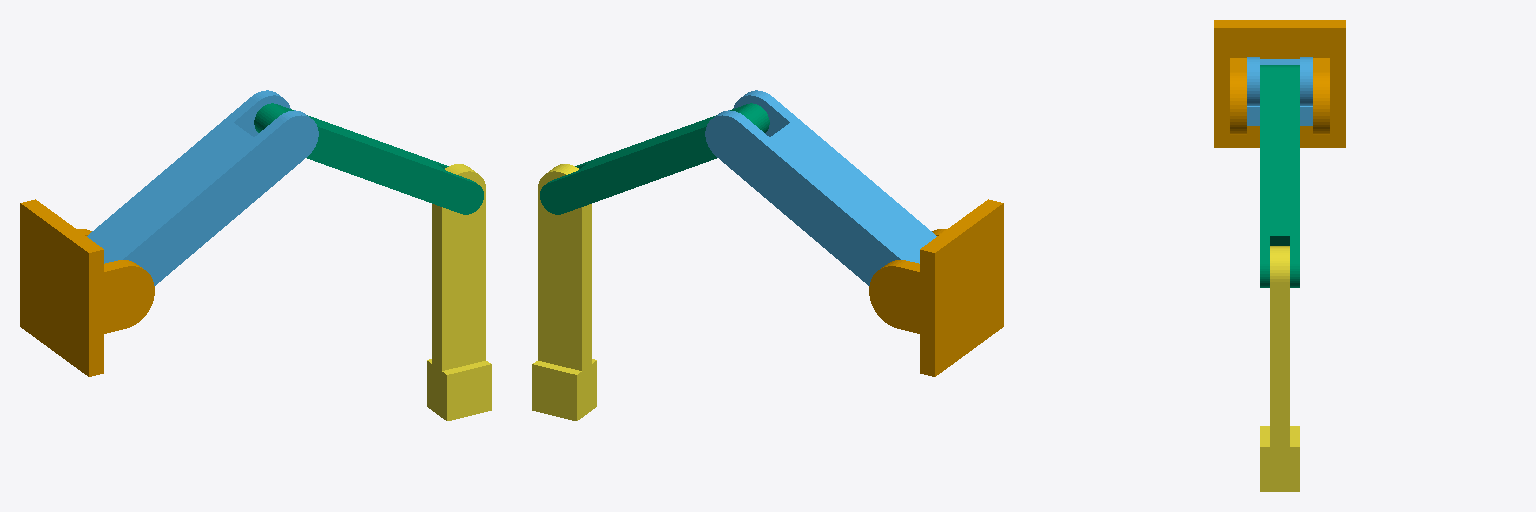
The robot description file, URDF, robot "spider_feet_l":
<?xml version="1.0" ?>
<robot name="spider_feet_l">

<link name="spider_feet_l_base_link">
  <inertial>
    <origin xyz="0.0006389422779993786 -3.5440479720288525e-19 9.279166287235361e-08" rpy="0 0 0"/>
    <mass value="9.60595016905366e-05"/>
    <inertia ixx="0.0" iyy="0.0" izz="0.0" ixy="-0.0" iyz="-0.0" ixz="-0.0"/>
  </inertial>
  <visual>
    <origin xyz="0 0 0" rpy="0 0 0"/>
    <geometry>
      <mesh filename="meshes/spider_feet_l_base_link.stl" scale="0.001 0.001 0.001"/>
    </geometry>
    <material name="silver"/>
  </visual>
  <collision>
    <origin xyz="0 0 0" rpy="0 0 0"/>
    <geometry>
      <mesh filename="meshes/spider_feet_l_base_link.stl" scale="0.001 0.001 0.001"/>
    </geometry>
  </collision>
</link>

<link name="spider_feet_l_farm_1">
  <inertial>
    <origin xyz="0.0027497367858007066 0.0 0.0015875615341452867" rpy="0 0 0"/>
    <mass value="0.00016960973489184238"/>
    <inertia ixx="0.0" iyy="0.0" izz="0.0" ixy="0.0" iyz="0.0" ixz="-0.0"/>
  </inertial>
  <visual>
    <origin xyz="-0.001517 -0.0 -0.0" rpy="0 0 0"/>
    <geometry>
      <mesh filename="meshes/spider_feet_l_farm_1.stl" scale="0.001 0.001 0.001"/>
    </geometry>
    <material name="silver"/>
  </visual>
  <collision>
    <origin xyz="-0.001517 -0.0 -0.0" rpy="0 0 0"/>
    <geometry>
      <mesh filename="meshes/spider_feet_l_farm_1.stl" scale="0.001 0.001 0.001"/>
    </geometry>
  </collision>
</link>

<link name="spider_feet_l_sarm_1">
  <inertial>
    <origin xyz="0.0028906645717420385 0.0 -0.0016695684877066313" rpy="0 0 0"/>
    <mass value="6.608259707145152e-05"/>
    <inertia ixx="0.0" iyy="0.0" izz="0.0" ixy="0.0" iyz="0.0" ixz="0.0"/>
  </inertial>
  <visual>
    <origin xyz="-0.00758 -0.0 -0.0035" rpy="0 0 0"/>
    <geometry>
      <mesh filename="meshes/spider_feet_l_sarm_1.stl" scale="0.001 0.001 0.001"/>
    </geometry>
    <material name="silver"/>
  </visual>
  <collision>
    <origin xyz="-0.00758 -0.0 -0.0035" rpy="0 0 0"/>
    <geometry>
      <mesh filename="meshes/spider_feet_l_sarm_1.stl" scale="0.001 0.001 0.001"/>
    </geometry>
  </collision>
</link>

<link name="spider_feet_l_tarm_1">
  <inertial>
    <origin xyz="4.4210894886015373e-07 -1.3447745623952203e-19 -0.0037601183496128727" rpy="0 0 0"/>
    <mass value="6.328932218090162e-05"/>
    <inertia ixx="0.0" iyy="0.0" izz="0.0" ixy="-0.0" iyz="-0.0" ixz="0.0"/>
  </inertial>
  <visual>
    <origin xyz="-0.013641 -0.0 1e-06" rpy="0 0 0"/>
    <geometry>
      <mesh filename="meshes/spider_feet_l_tarm_1.stl" scale="0.001 0.001 0.001"/>
    </geometry>
    <material name="silver"/>
  </visual>
  <collision>
    <origin xyz="-0.013641 -0.0 1e-06" rpy="0 0 0"/>
    <geometry>
      <mesh filename="meshes/spider_feet_l_tarm_1.stl" scale="0.001 0.001 0.001"/>
    </geometry>
  </collision>
</link>

<link name="spider_feet_l_APP_1">
  <inertial>
    <origin xyz="2.7755575615628914e-19 0.0 0.0" rpy="0 0 0"/>
    <mass value="4.110250388446644e-06"/>
    <inertia ixx="0.0" iyy="0.0" izz="0.0" ixy="0.0" iyz="-0.0" ixz="-0.0"/>
  </inertial>
  
  
</link>

<link name="spider_feet_l_AP_1">
  <inertial>
    <origin xyz="4.421089492417929e-07 4.163336342344337e-19 4.2417633978886204e-07" rpy="0 0 0"/>
    <mass value="4.110250388446644e-06"/>
    <inertia ixx="0.0" iyy="0.0" izz="0.0" ixy="0.0" iyz="0.0" ixz="-0.0"/>
  </inertial>
  
  
</link>

<joint name="Revolute 1" type="revolute">
  <origin xyz="0.001517 0.0 0.0" rpy="0 0 0"/>
  <parent link="spider_feet_l_base_link"/>
  <child link="spider_feet_l_farm_1"/>
  <axis xyz="0.0 1.0 0.0"/>
  <limit upper="2.094395" lower="-1.047198" effort="100" velocity="100"/>
</joint>

<joint name="Revolute 2" type="revolute">
  <origin xyz="0.006063 0.0 0.0035" rpy="0 0 0"/>
  <parent link="spider_feet_l_farm_1"/>
  <child link="spider_feet_l_sarm_1"/>
  <axis xyz="0.0 1.0 0.0"/>
  <limit upper="0.785398" lower="-1.047198" effort="100" velocity="100"/>
</joint>

<joint name="Revolute 3" type="revolute">
  <origin xyz="0.006061 0.0 -0.003501" rpy="0 0 0"/>
  <parent link="spider_feet_l_sarm_1"/>
  <child link="spider_feet_l_tarm_1"/>
  <axis xyz="0.0 1.0 0.0"/>
  <limit upper="0.698132" lower="-1.047198" effort="100" velocity="100"/>
</joint>

<joint name="Rigid 4" type="fixed">
  <origin xyz="0.0 0.0 0.0" rpy="0 0 0"/>
  <parent link="spider_feet_l_base_link"/>
  <child link="spider_feet_l_APP_1"/>
</joint>

<joint name="Rigid 5" type="fixed">
  <origin xyz="0.0 0.0 -0.007" rpy="0 0 0"/>
  <parent link="spider_feet_l_tarm_1"/>
  <child link="spider_feet_l_AP_1"/>
</joint>

</robot>

--- Render facts (derived) ---
3 views of the same robot in one strip: view 1: azimuth 30°, elevation 25°; view 2: azimuth 150°, elevation 25°; view 3: azimuth 270°, elevation 25° (orthographic).
Robot: spider_feet_l — 6 links, 5 joints (3 revolute, 2 fixed); root link spider_feet_l_base_link; default pose: all joints at 0.
Visible links, largest first — view 1: spider_feet_l_farm_1, spider_feet_l_base_link, spider_feet_l_tarm_1, spider_feet_l_sarm_1; view 2: spider_feet_l_farm_1, spider_feet_l_base_link, spider_feet_l_tarm_1, spider_feet_l_sarm_1; view 3: spider_feet_l_base_link, spider_feet_l_sarm_1, spider_feet_l_tarm_1, spider_feet_l_farm_1.
Link boxes in pixels (box(x1,y1,x2,y2)): spider_feet_l_farm_1: box(87, 90, 318, 285); spider_feet_l_base_link: box(20, 199, 154, 376); spider_feet_l_tarm_1: box(427, 164, 491, 420); spider_feet_l_sarm_1: box(254, 103, 483, 214); spider_feet_l_farm_1: box(705, 90, 936, 285); spider_feet_l_base_link: box(869, 199, 1003, 376); spider_feet_l_tarm_1: box(532, 164, 596, 420); spider_feet_l_sarm_1: box(540, 103, 769, 214); spider_feet_l_base_link: box(1214, 20, 1345, 147); spider_feet_l_sarm_1: box(1260, 65, 1299, 287); spider_feet_l_tarm_1: box(1260, 246, 1299, 491); spider_feet_l_farm_1: box(1247, 57, 1312, 125).
Bounding box of the posed robot: 0.0144 × 0.004 × 0.0113 m (x, y, z).
4 mesh visuals loaded from 4 distinct referenced files (4 binary STL).